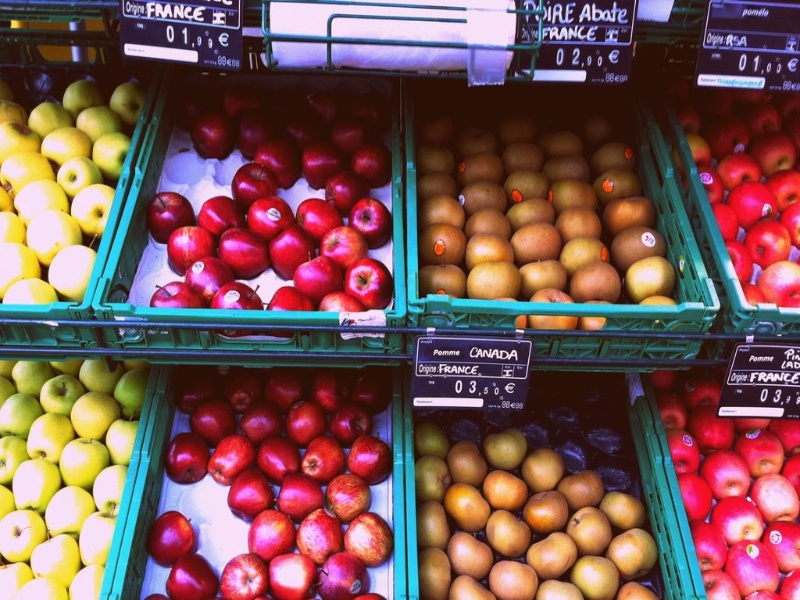apple: (710, 491, 766, 544), (1, 503, 48, 565), (341, 256, 393, 311), (221, 160, 281, 205), (169, 428, 216, 485), (144, 188, 196, 239), (220, 548, 270, 598), (726, 179, 773, 224), (56, 150, 99, 197)
